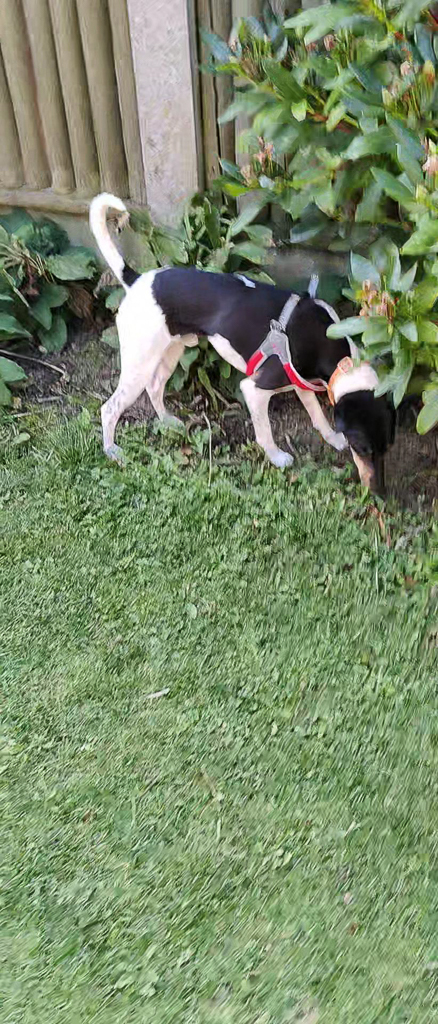Dog: (70, 181, 414, 515)
